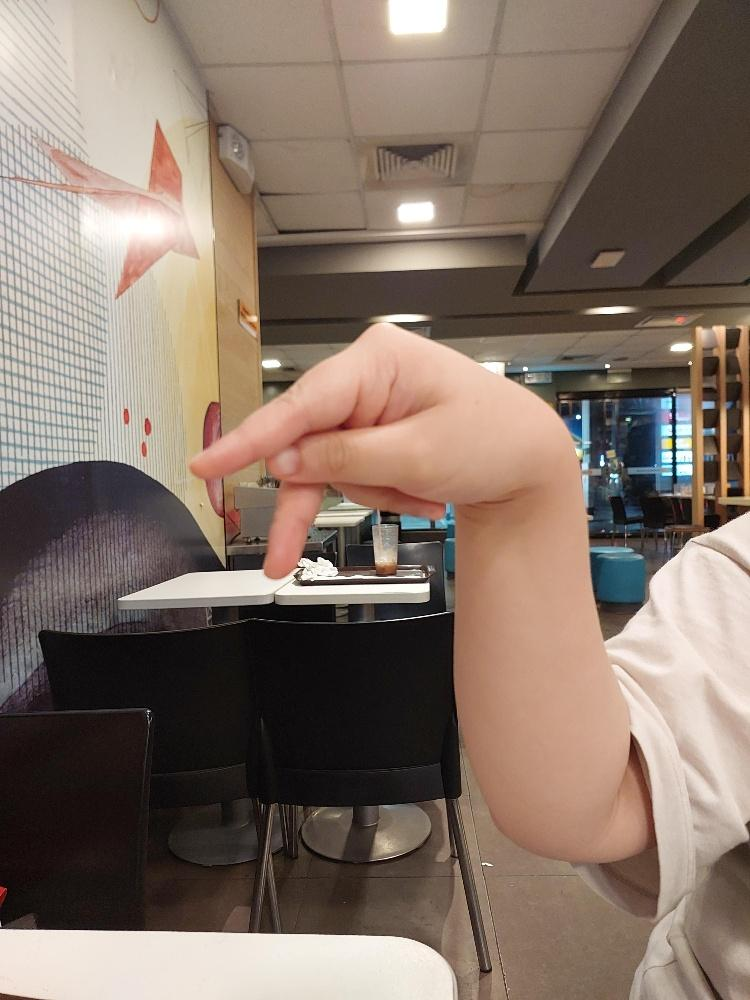p: (186, 320, 523, 581)
